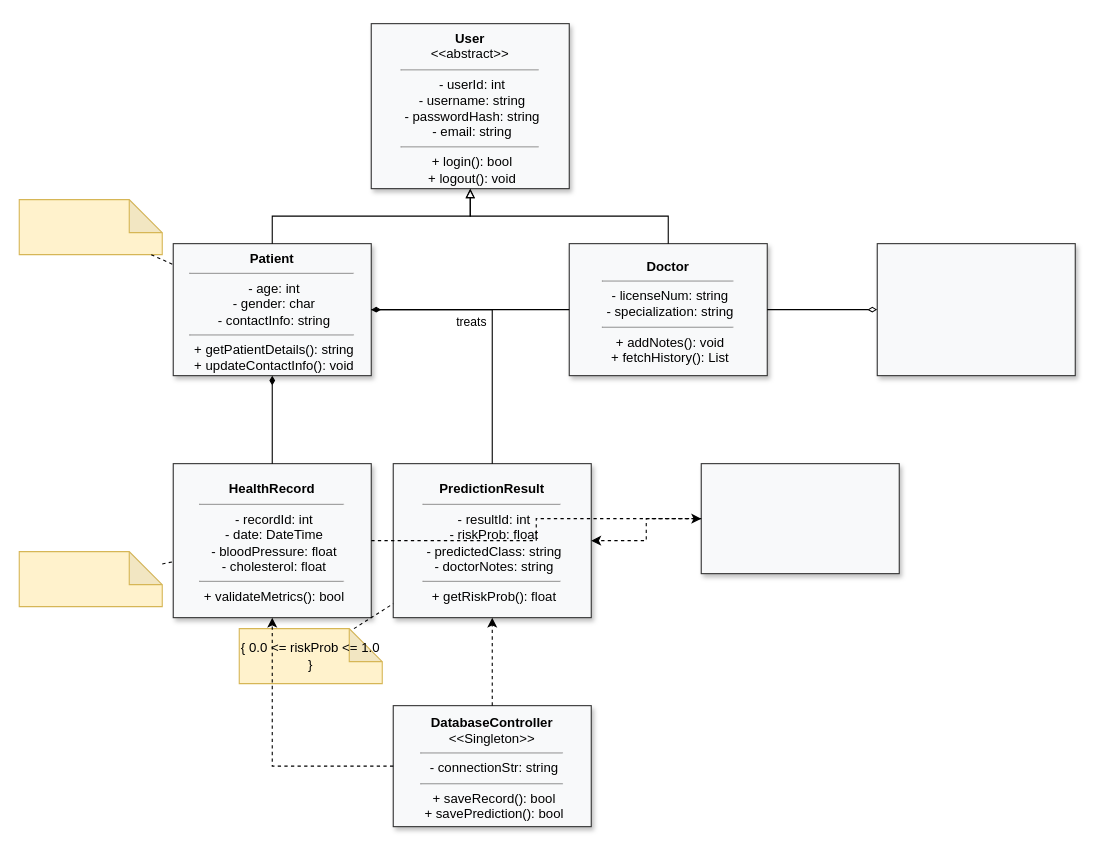
Image size: 1101x854. Some labels were removed from this diagram. Here are the shapes that lost their labels. From the top down, the centre of each, then its label:
At pixel 90 227: "{ age > 0 and age < 130 }".
At pixel 977 310: "Hospital - name: string - address: string + getDoctors(): List<Doctor>".
At pixel 801 519: "MLPredictionService - modelVersion: string + predictRisk(): Result".
At pixel 90 579: "{ cholesterol > 0.0 }".
